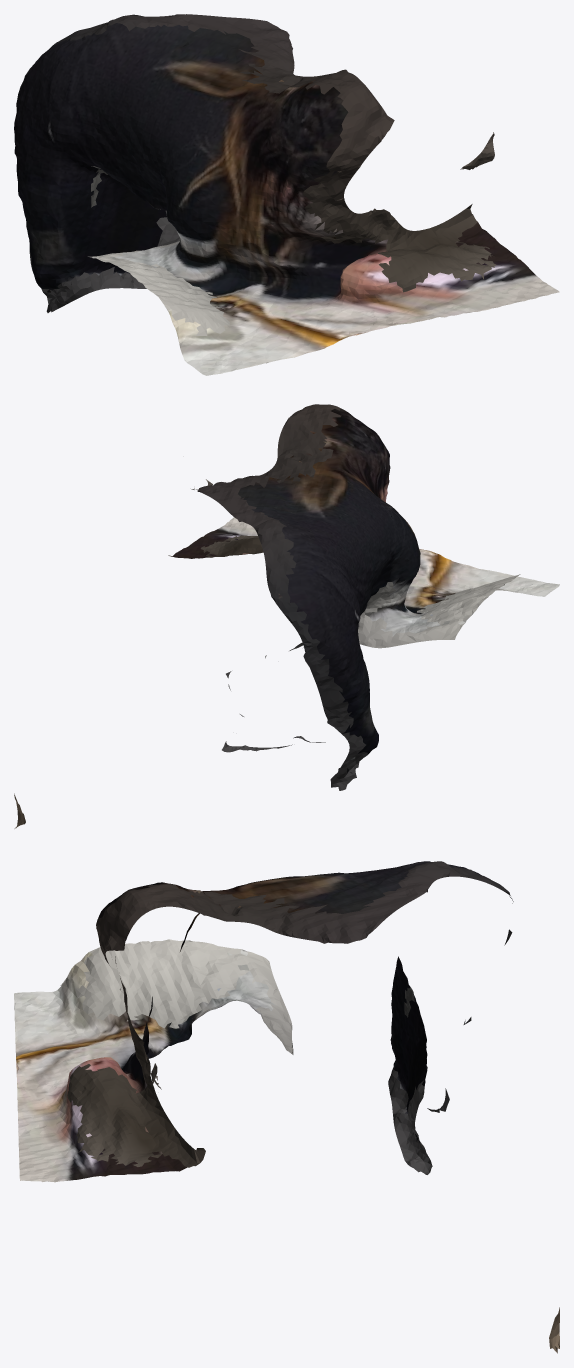
3 renders of one model, top to bottom at view 1: azimuth 30°, elevation 25°; view 2: azimuth 150°, elevation 25°; view 3: azimuth 270°, elevation 25°, orthographic. The views are drawn at different scales.
Bounding box in the file's own units: 0.7927 × 0.7735 × 0.9916.
Materials: 1 (1 with a texture image).
